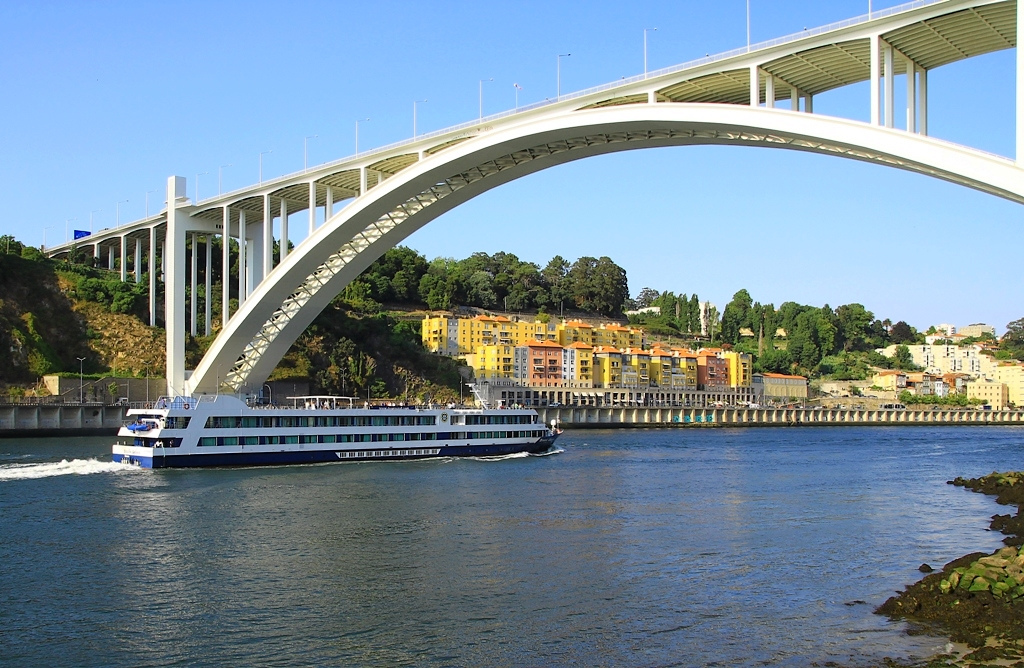arrabida: (45, 0, 1023, 405)
